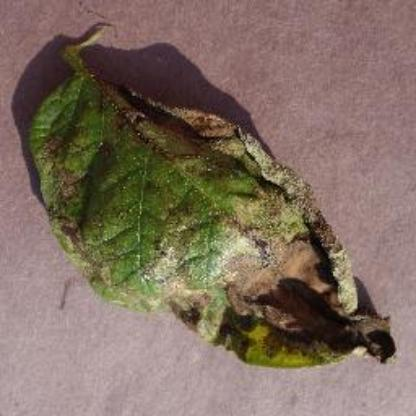Late-Blight: (33, 23, 399, 368)
